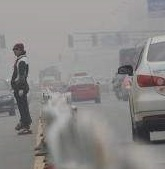person: (10, 41, 34, 135)
